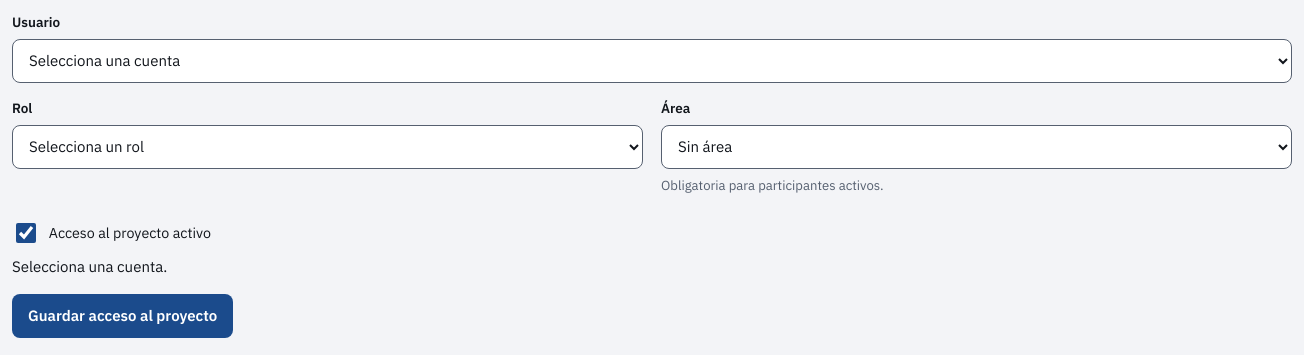
Test: el directorio identifica miembros existentes y cambiar de cuenta carga los tres valores
Select "Carla · ya está en el proyecto" in the dropdown labelled "Usuario": point(652, 61) [12,39,1292,83]
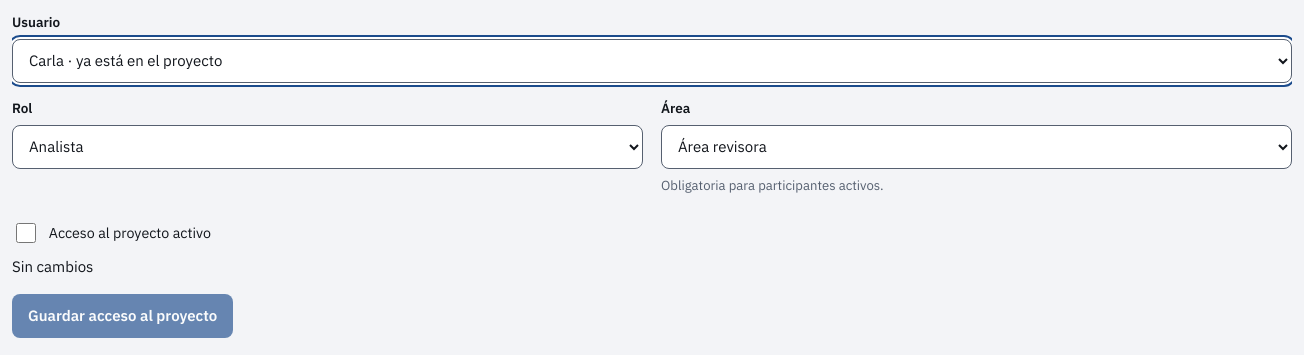
Check: the checkbox labelled "Acceso al proyecto activo" is not checked, box [16,223,36,243]
Select "Ana · ya está en el proyecto" in the dropdown labelled "Usuario": point(652, 61) [12,39,1292,83]
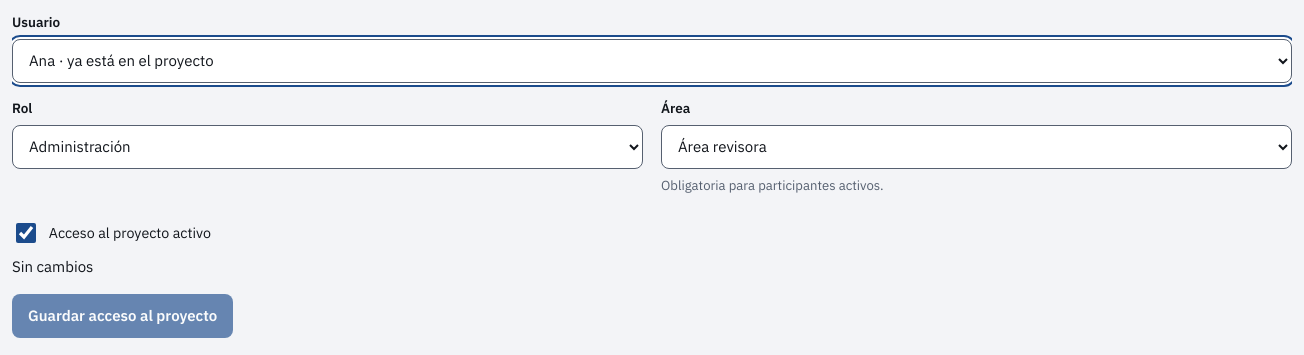
Check: the dropdown labelled "Área" shows "Área revisora", box [661,125,1292,169]
Check: the dropdown labelled "Rol" shows "Administración", box [12,125,643,169]
Check: the checkbox labelled "Acceso al proyecto activo" is checked, box [16,223,36,243]
